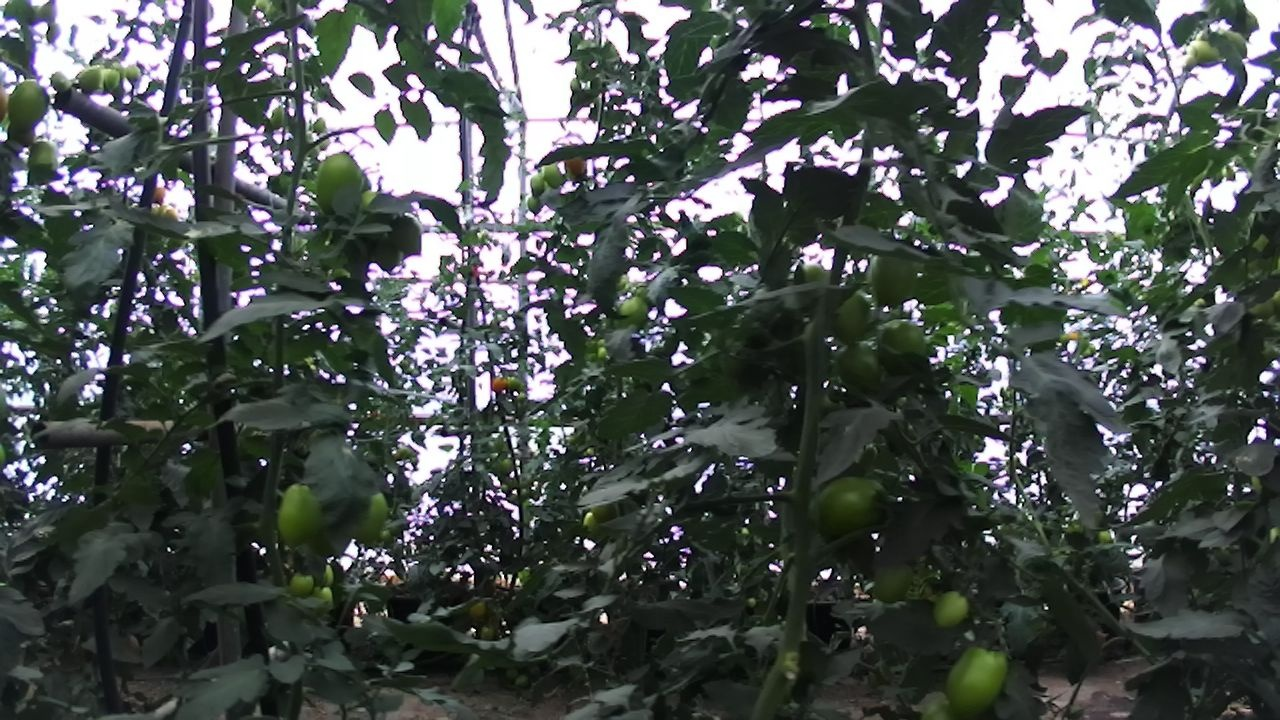tomato: (799, 462, 905, 549), (935, 630, 1020, 720), (269, 468, 340, 560), (307, 142, 375, 226), (858, 241, 930, 319), (334, 471, 400, 555), (869, 310, 937, 381), (829, 332, 894, 397), (822, 283, 885, 348), (1, 73, 58, 138), (863, 553, 925, 612), (925, 581, 976, 638), (24, 134, 66, 181), (611, 289, 655, 331), (1184, 33, 1226, 73), (283, 566, 321, 606), (73, 61, 109, 98), (1218, 27, 1253, 63), (559, 150, 596, 184), (307, 580, 337, 619), (536, 157, 568, 193), (46, 63, 78, 98), (96, 60, 126, 97), (577, 508, 603, 541), (526, 169, 551, 200), (464, 597, 492, 624), (523, 192, 549, 219), (500, 371, 526, 397), (122, 58, 145, 85), (494, 454, 518, 479), (475, 621, 498, 645), (486, 373, 510, 396)
